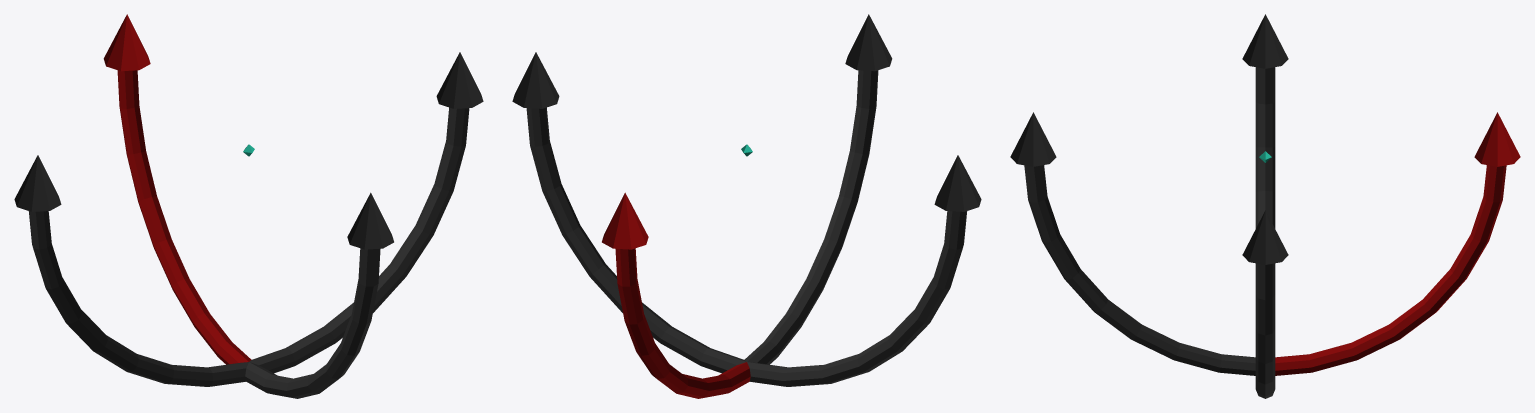
The model's file is oktokopter-yawpitchroll.obj.
3 views of the same model, side by side, from view 1: azimuth 30°, elevation 25°; view 2: azimuth 150°, elevation 25°; view 3: azimuth 270°, elevation 25° (orthographic). The views are drawn at different scales.
Visible parts, largest first — view 1: Zylinder002, Zylinder003, Zylinder001, Zylinder004, Kegel002, Kegel003, Kegel004, Kegel001; view 2: Zylinder004, Zylinder003, Zylinder001, Zylinder002, Kegel002, Kegel004, Kegel003, Kegel001; view 3: Zylinder004, Zylinder002, Zylinder001, Zylinder003, Kegel002, Kegel003, Kegel004, Kegel001.
Part boxes in pixels (x1,y1,x2,y2): Zylinder002: [117, 70, 251, 364]; Zylinder003: [249, 107, 469, 373]; Zylinder001: [28, 211, 248, 386]; Zylinder004: [245, 248, 380, 398]; Kegel002: [14, 155, 61, 211]; Kegel003: [103, 14, 150, 71]; Kegel004: [347, 192, 393, 249]; Kegel001: [436, 52, 483, 108]; Zylinder004: [744, 70, 878, 364]; Zylinder003: [526, 107, 746, 373]; Zylinder001: [747, 211, 967, 386]; Zylinder002: [615, 248, 750, 398]; Kegel002: [934, 155, 981, 211]; Kegel004: [845, 14, 892, 71]; Kegel003: [602, 192, 648, 249]; Kegel001: [512, 52, 559, 108]; Zylinder004: [1024, 165, 1255, 375]; Zylinder002: [1275, 165, 1506, 375]; Zylinder001: [1255, 67, 1275, 228]; Zylinder003: [1255, 263, 1275, 398]; Kegel002: [1242, 14, 1288, 68]; Kegel003: [1474, 112, 1520, 166]; Kegel004: [1010, 112, 1056, 166]; Kegel001: [1242, 210, 1288, 264].
Bounding box in the file's own units: 1.54 × 0.8803 × 1.54.
